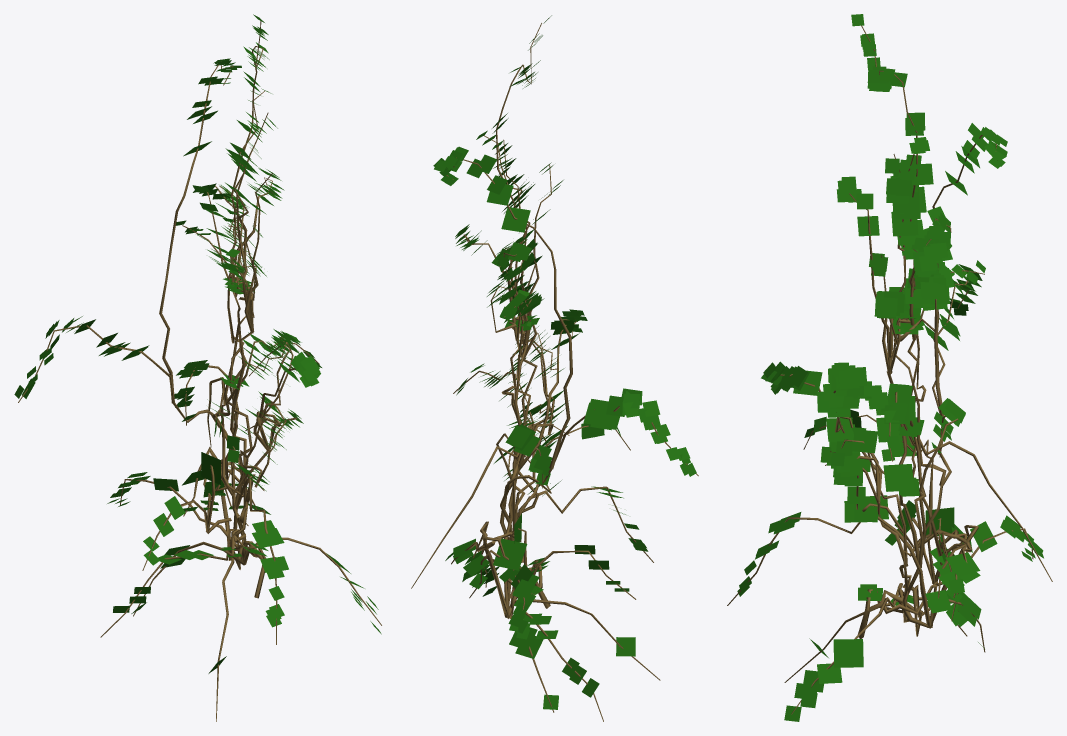
File: ivy1.fbx
3 renders of one model, left to right at view 1: azimuth 30°, elevation 25°; view 2: azimuth 150°, elevation 25°; view 3: azimuth 270°, elevation 25°, orthographic. The views are drawn at different scales.
Parts seen in each view (by area): view 1: IVY_Curve; view 2: IVY_Curve; view 3: IVY_Curve.
Part boxes in pixels (left/top/right/bottom): IVY_Curve: left=14, top=14, right=381, bottom=721; IVY_Curve: left=411, top=15, right=698, bottom=721; IVY_Curve: left=727, top=14, right=1052, bottom=721.
Bounding box in the file's own units: 150 × 328 × 137.
